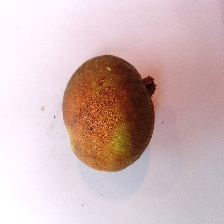guava: (8, 4, 184, 190)
